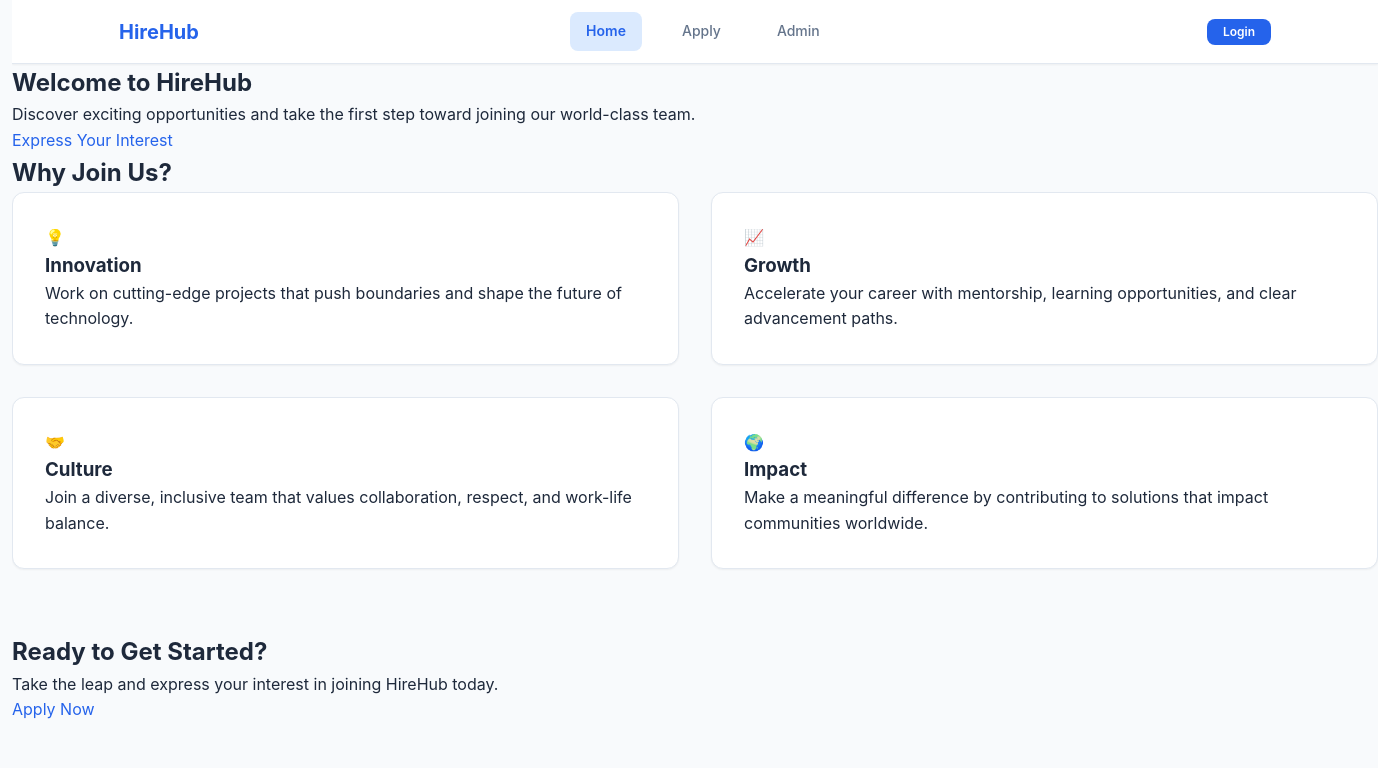
Test case: App › Admin route › transitions to dashboard after successful login
Click the link "Admin" at (798, 31), box [777,22,820,39]
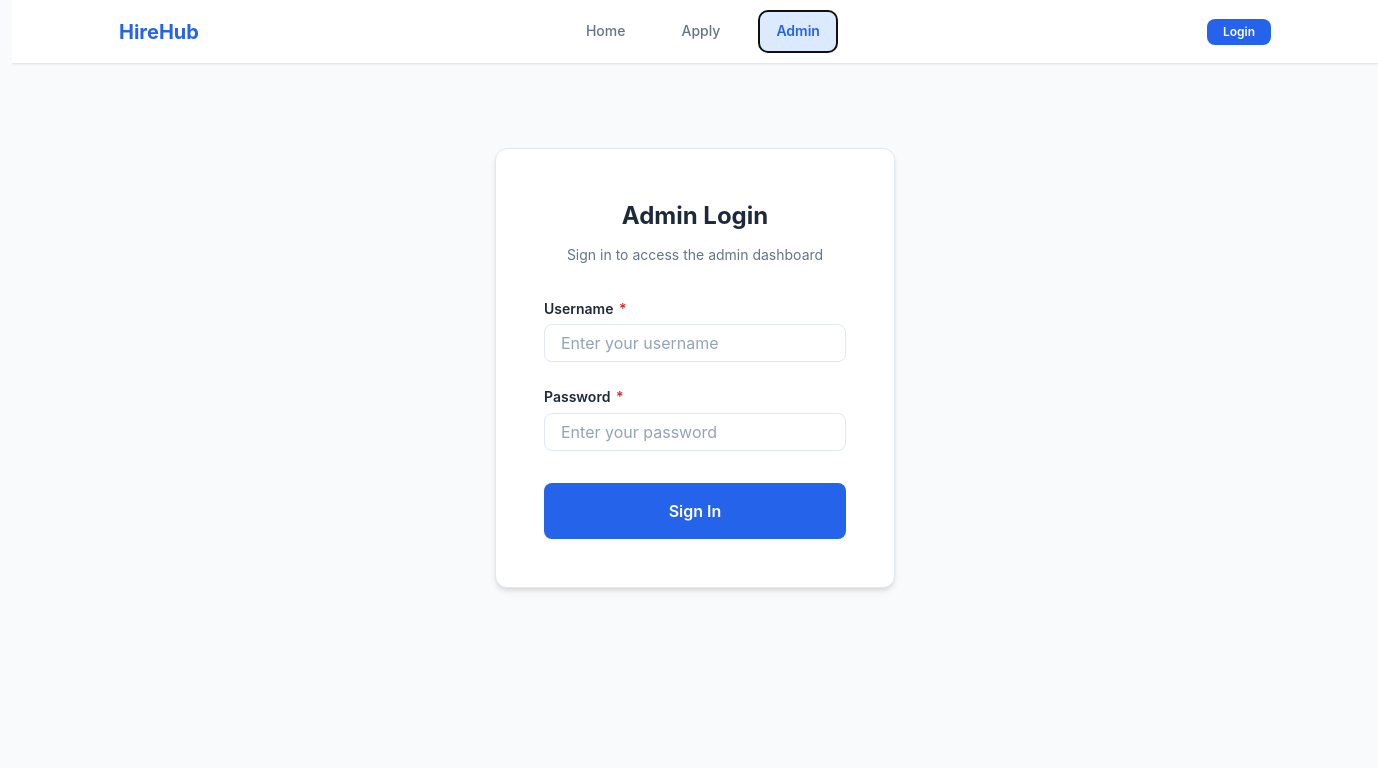
Type "admin" into the field labelled "Username *" at (695, 343), box [544,324,846,362]
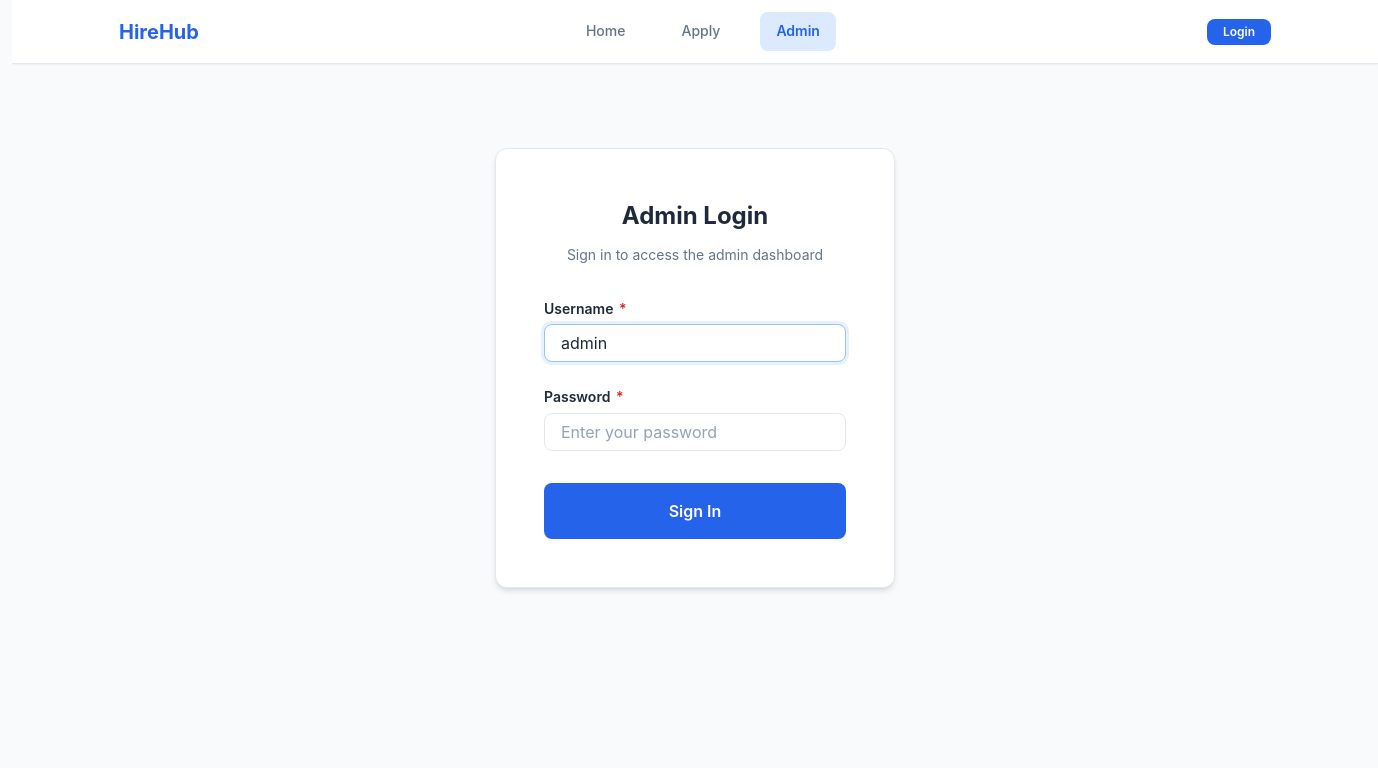
Type "admin" into the password field labelled "Password *" at (695, 432), box [544,413,846,451]
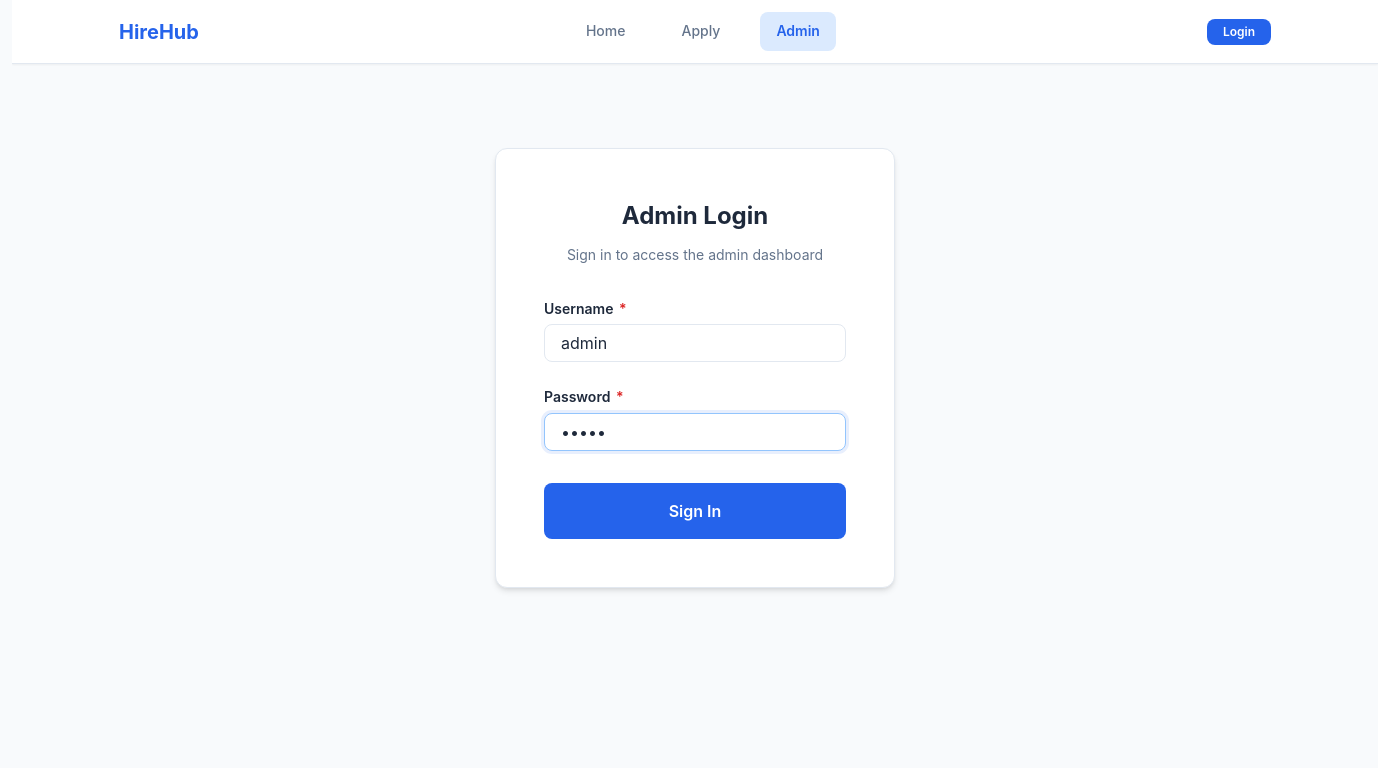
Click the button "Sign In" at (695, 511), box [544,483,846,539]
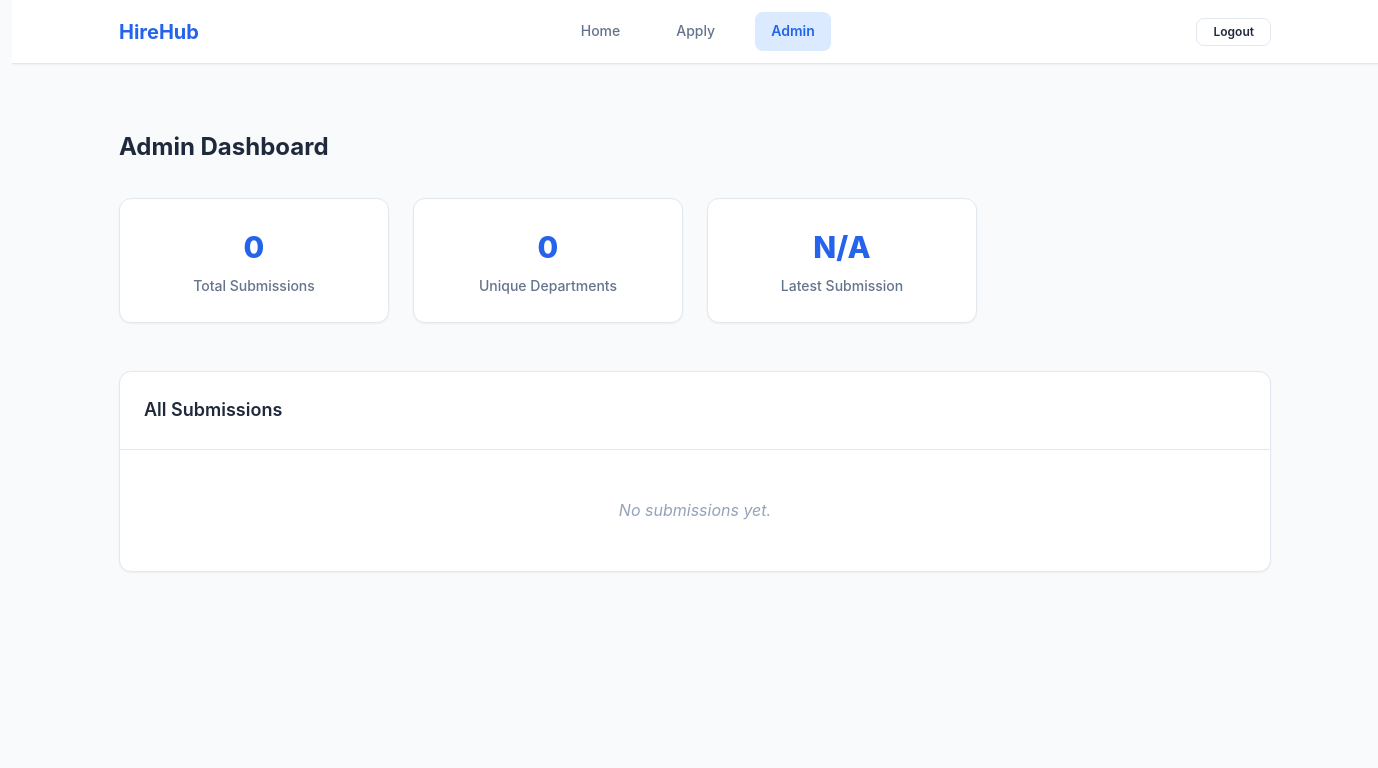
Result: the heading "Admin Dashboard" is shown at [119,132,328,161]
Result: the text "Total Submissions" is shown at [193,277,315,294]
